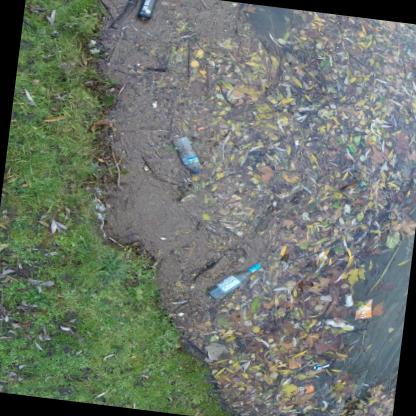Metal: (136, 0, 156, 21)
Plastic: (205, 262, 260, 299), (172, 136, 199, 174), (354, 298, 371, 320), (292, 382, 313, 395), (310, 360, 331, 370), (196, 126, 203, 130), (348, 147, 352, 152), (359, 184, 362, 186)
Waste: (323, 318, 352, 330), (341, 292, 352, 306), (338, 133, 342, 140)
